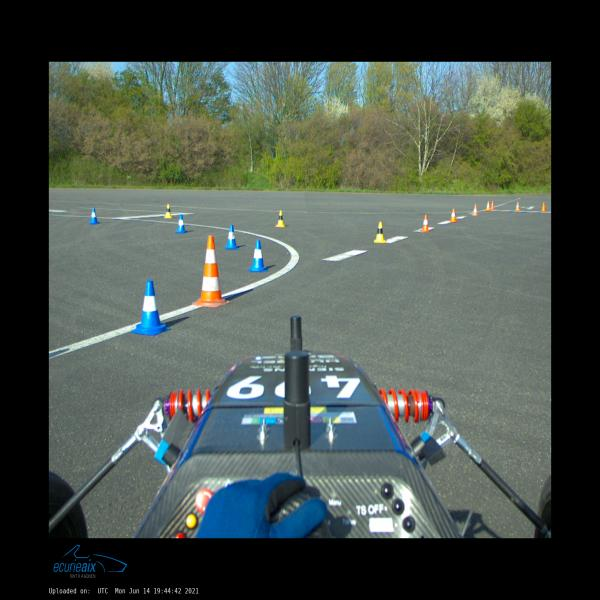blue_cone: (132, 280, 172, 335), (248, 240, 269, 272), (224, 225, 239, 249), (175, 214, 187, 233), (89, 208, 99, 224)
large_orange_cone: (192, 236, 231, 308)
orange_cone: (421, 214, 430, 231), (450, 209, 457, 222), (472, 204, 478, 216), (541, 202, 546, 211), (515, 202, 520, 210), (486, 201, 490, 211), (490, 201, 494, 209)
yellow_cone: (374, 222, 386, 243), (276, 210, 286, 228), (164, 204, 172, 218)
